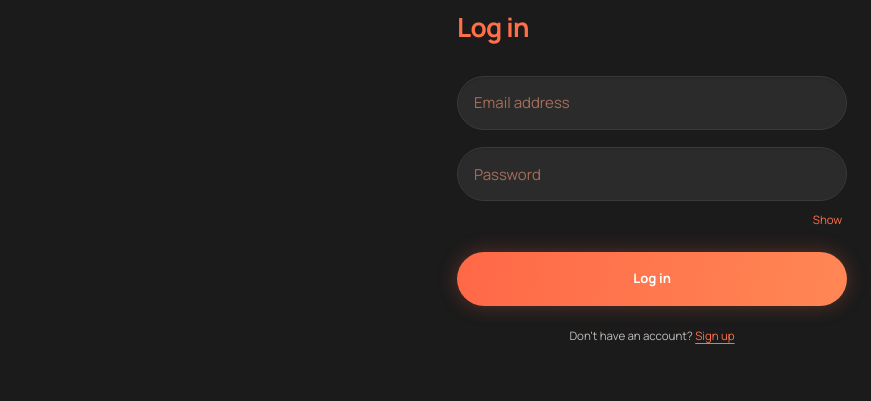
Login page › reports authentication failures without exposing the password
The width and height of the screenshot is (871, 401).
Type "listener@example.com" into the field labelled "Email" at (652, 103), box x1=457 y1=76 x2=847 y2=130
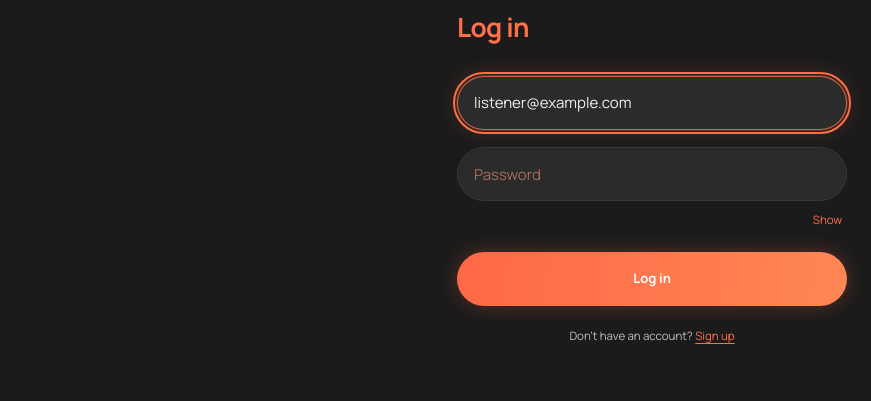
Type "incorrect-secret" into the password field labelled "Password" at (652, 174), box x1=457 y1=147 x2=847 y2=201
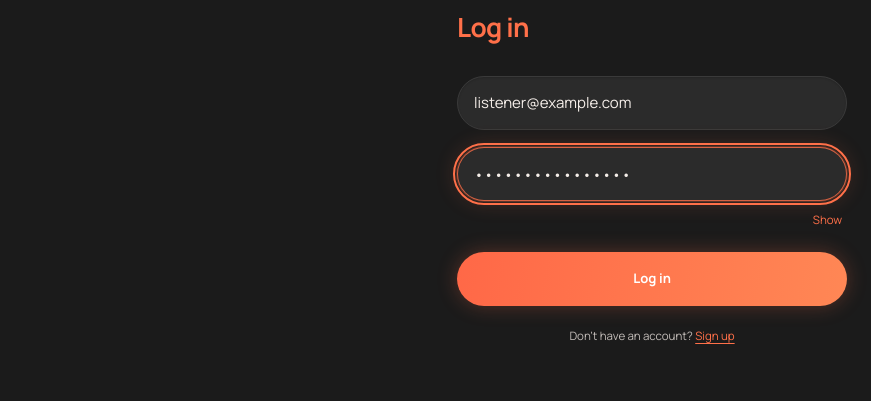
Click the button "Log in" at (652, 279), box x1=457 y1=252 x2=847 y2=306
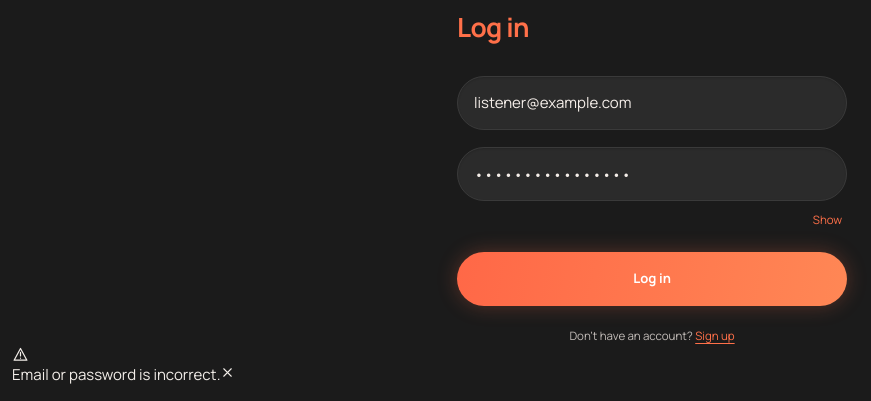
Expected: the message reads "Email or password is incorrect.", x1=12 y1=364 x2=220 y2=385
